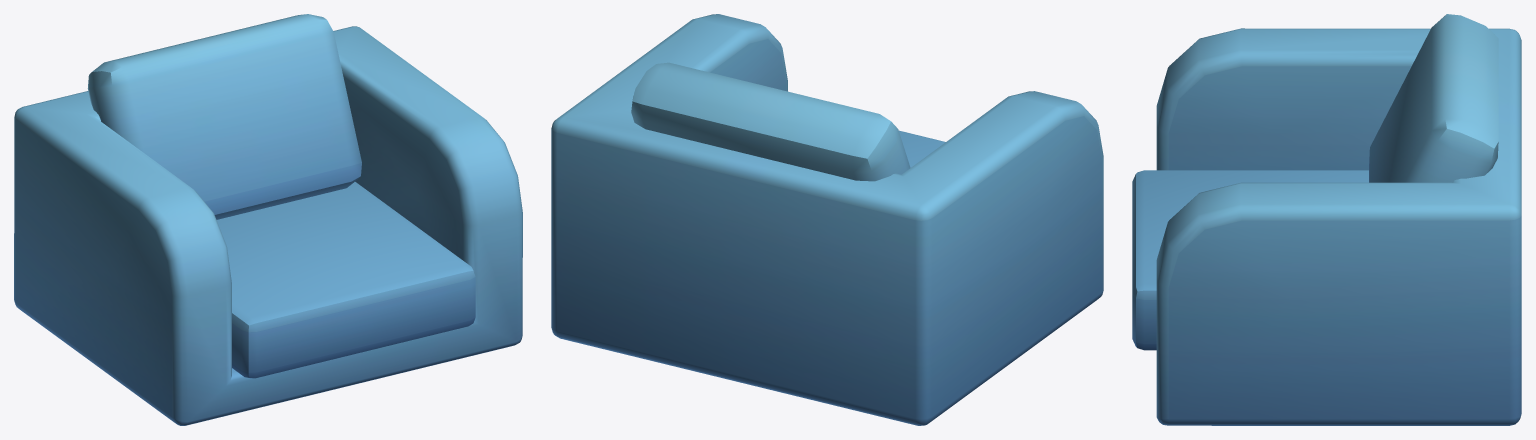
File: armchair.glb
3 views of the same model, side by side, from view 1: azimuth 30°, elevation 25°; view 2: azimuth 150°, elevation 25°; view 3: azimuth 270°, elevation 25° (orthographic). The views are drawn at different scales.
Parts seen in each view (by area): view 1: armchair; view 2: armchair; view 3: armchair.
Part boxes in pixels (x1,y1,x2,y2): armchair: [14, 14, 522, 425]; armchair: [551, 14, 1103, 425]; armchair: [1132, 14, 1521, 425].
Size of the model in its own units: 1.8 by 1.22 by 1.6.
Materials: 1 (1 with a texture image).
